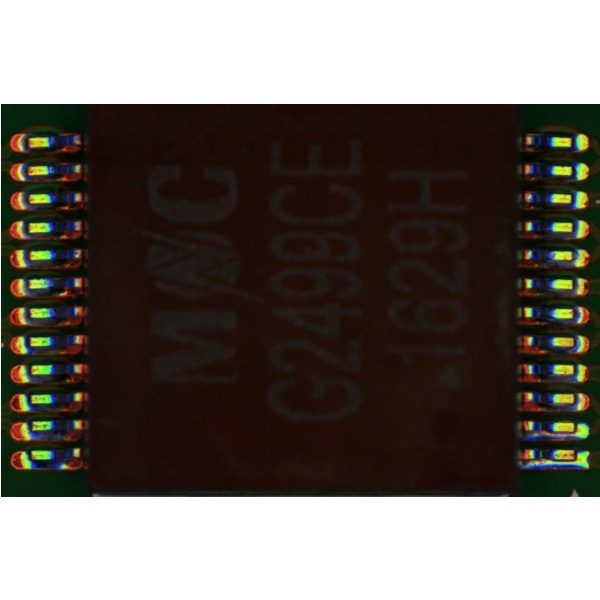Bad_qiaojiao: (520, 460, 573, 468), (523, 433, 574, 440)
